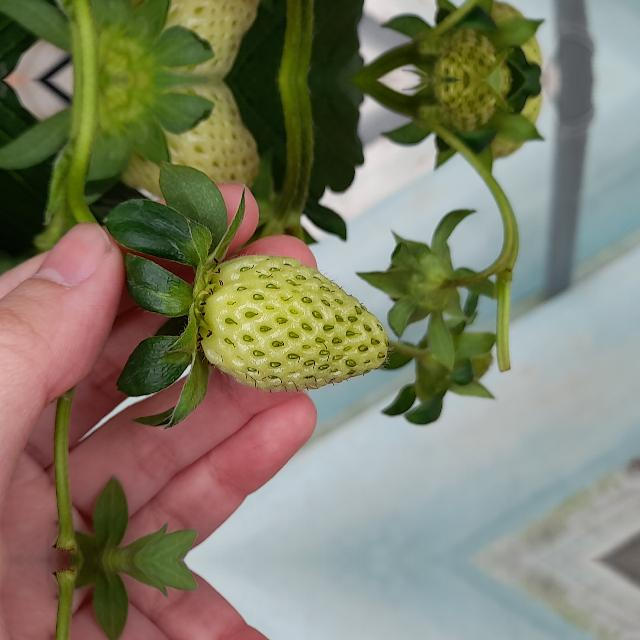Health_25: (199, 255, 387, 391), (80, 92, 266, 188), (80, 0, 265, 68)
